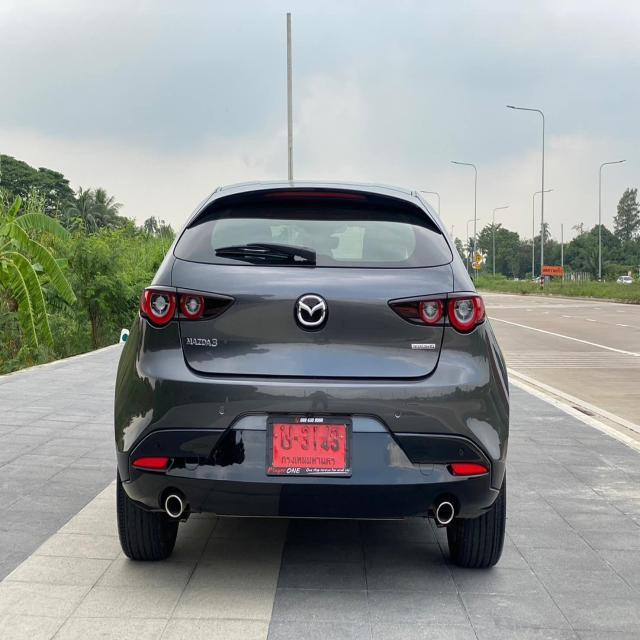Hatchback: (114, 183, 512, 571)
